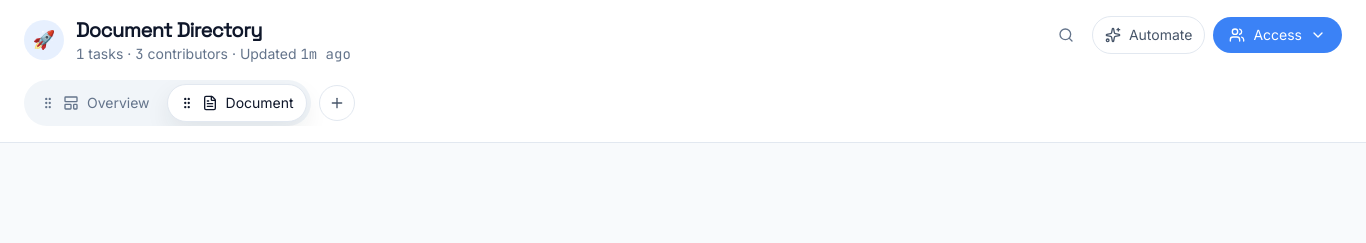
Test: ProjectShellHeader › shows all invite targets from the header action
Click the button "Access" at {"x": 1278, "y": 35}, box [1213, 17, 1342, 53]
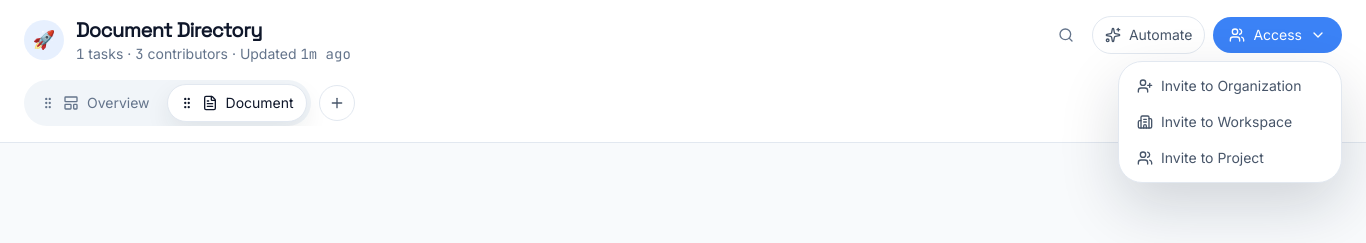
expect the menu item "Invite to Organization" is shown: met, box [1137, 77, 1302, 94]
expect the menu item "Invite to Workspace" is shown: met, box [1137, 113, 1292, 130]
expect the menu item "Invite to Project" is shown: met, box [1137, 149, 1264, 166]
